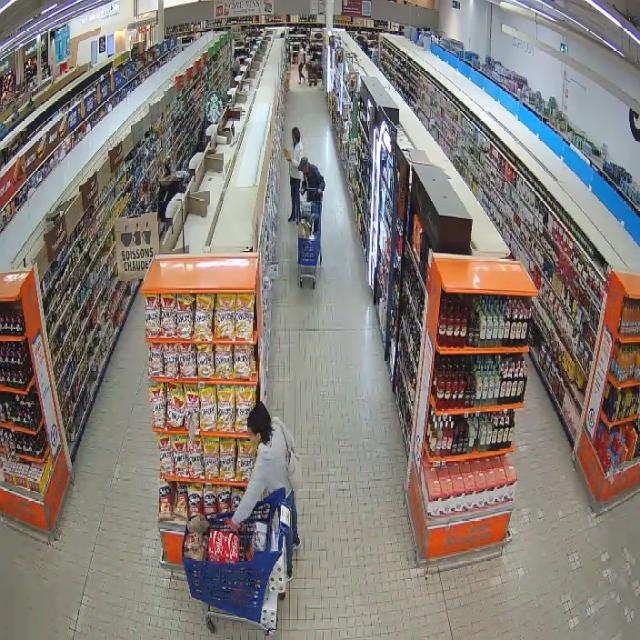article: (284, 150, 291, 160)
hands: (226, 519, 241, 533), (318, 189, 322, 196), (300, 187, 305, 192), (286, 158, 291, 162)
person: (229, 400, 299, 580), (285, 128, 304, 221), (302, 157, 325, 201)
